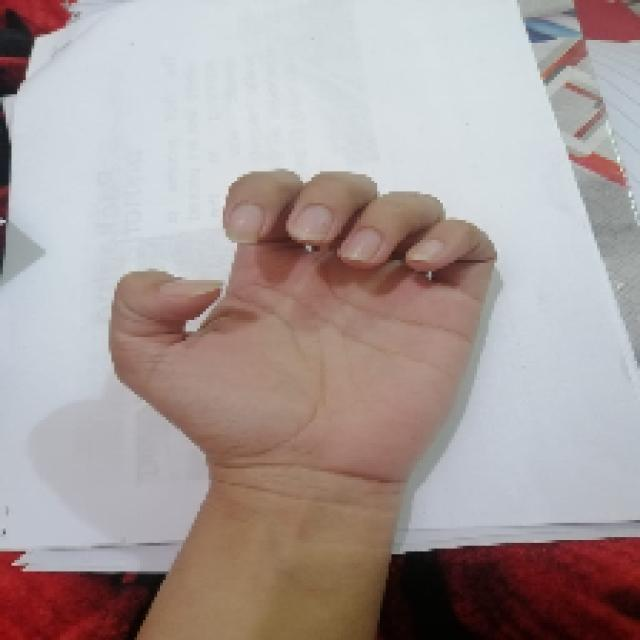Nail: (291, 205, 332, 240), (338, 228, 381, 261), (229, 205, 262, 242), (161, 280, 223, 296), (406, 240, 444, 261)
